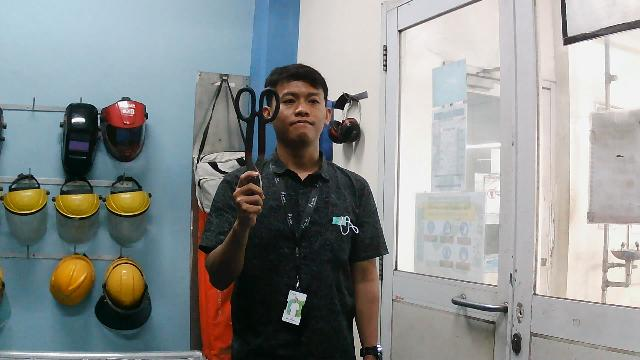gunting_plat: (221, 82, 285, 211)
